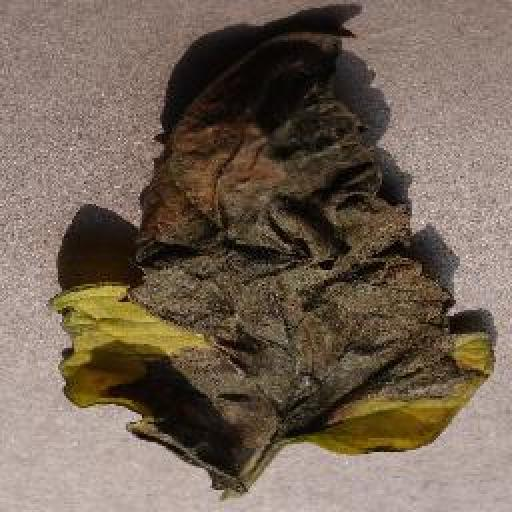Late Blight: (44, 23, 493, 497)
